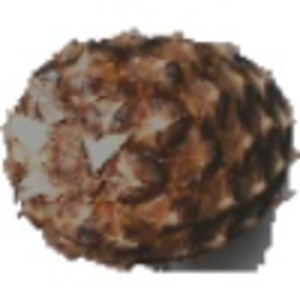abacaxi: (4, 22, 294, 266)
